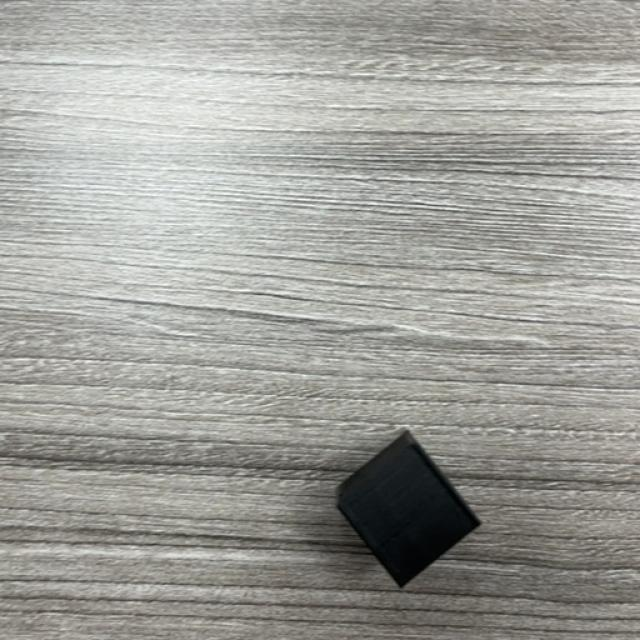Negro: (335, 429, 482, 590)
